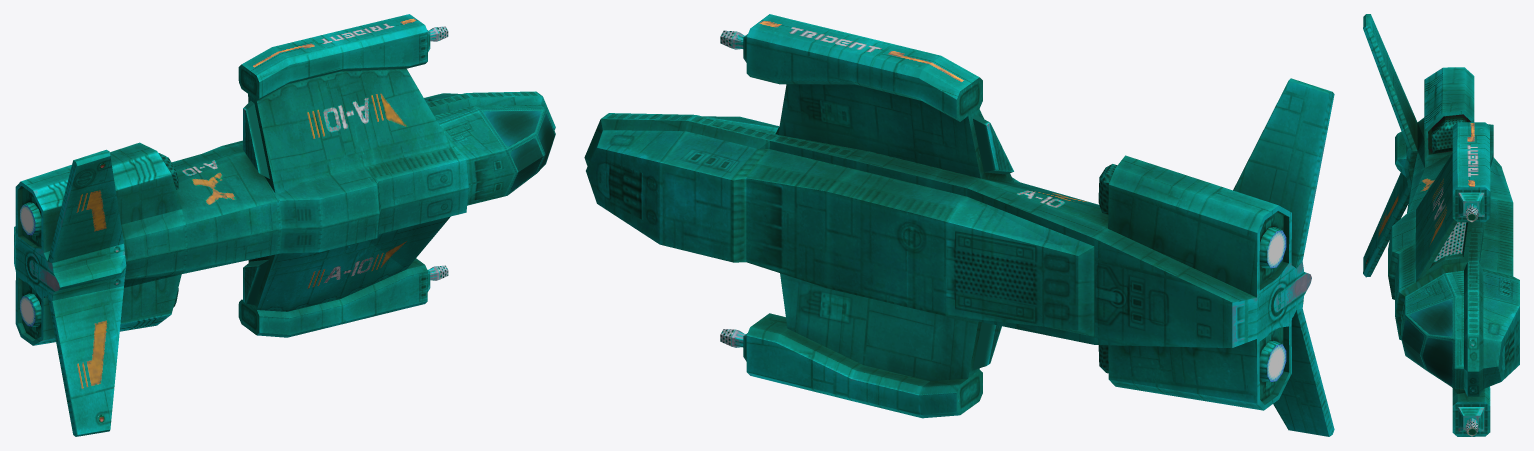
The model's file is spaceship.obj.
The picture shows the model from 3 angles, left to right: view 1: azimuth 30°, elevation 25°; view 2: azimuth 150°, elevation 25°; view 3: azimuth 270°, elevation 25°; orthographic projection. The views are drawn at different scales.
Visible parts, largest first — view 1: Trident_Space_Fighter.001; view 2: Trident_Space_Fighter.001; view 3: Trident_Space_Fighter.001.
Boxes of the visible parts, x1,y1,x2,y2 form: Trident_Space_Fighter.001: (14,14,555,436); Trident_Space_Fighter.001: (584,14,1334,436); Trident_Space_Fighter.001: (1363,14,1519,436).
Bounding box in the file's own units: 2.06 × 1.02 × 0.5796.
